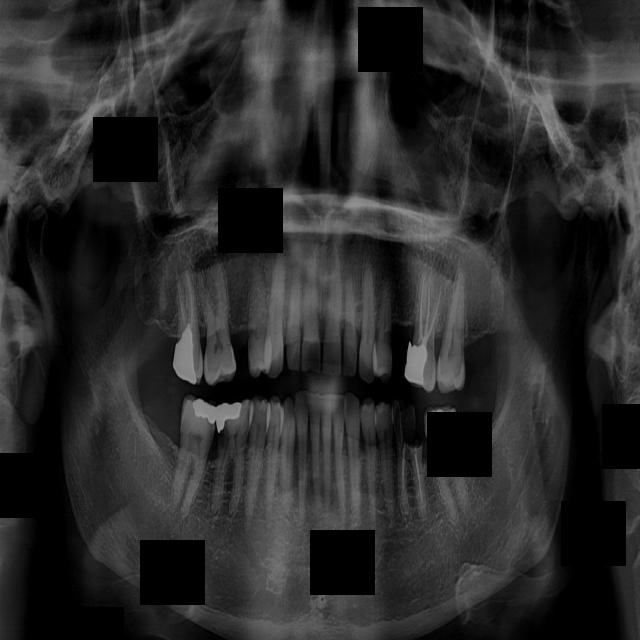72: (158, 280, 170, 316)
74: (421, 277, 442, 349), (411, 449, 427, 506), (418, 275, 427, 345), (175, 284, 188, 327), (186, 269, 194, 329), (400, 440, 407, 496)
NucleOSS Implant: (169, 325, 197, 387), (403, 342, 429, 385), (215, 403, 241, 433), (189, 398, 220, 423), (426, 406, 449, 428)
Sterngold Implant: (389, 400, 424, 461), (218, 420, 228, 452), (426, 431, 436, 451), (206, 423, 214, 446), (384, 328, 391, 353)
